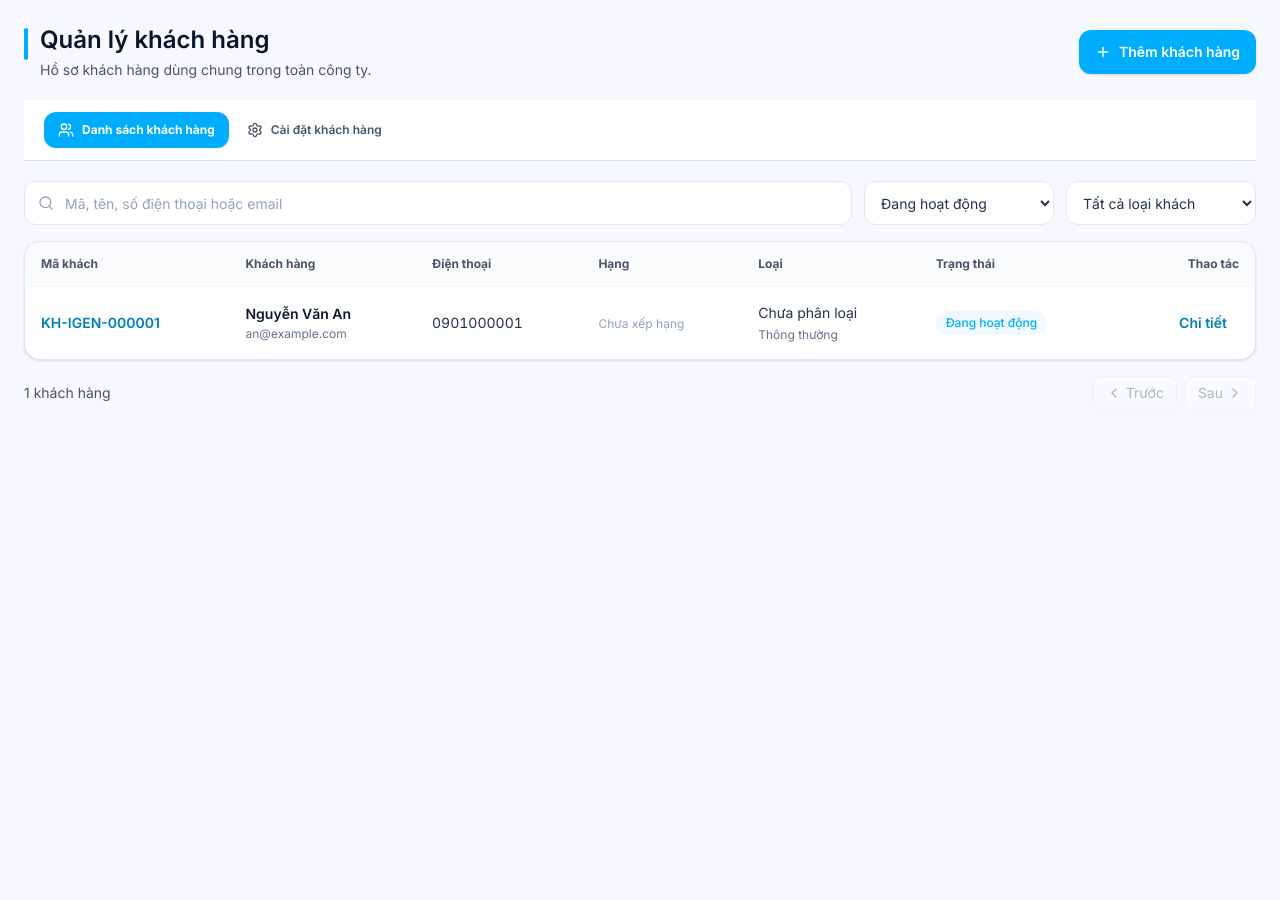
Test case: CustomerWorkspace › shows POS point redemption policy and reads the retail receivable ledger
Expected: the text "Nguyễn Văn An" is shown, top-left (246, 305), bottom-right (351, 322)
Click the button with aria-label "Chi tiết Nguyễn Văn An". click: click(1203, 323)
box: top-left (1167, 307), bottom-right (1239, 339)
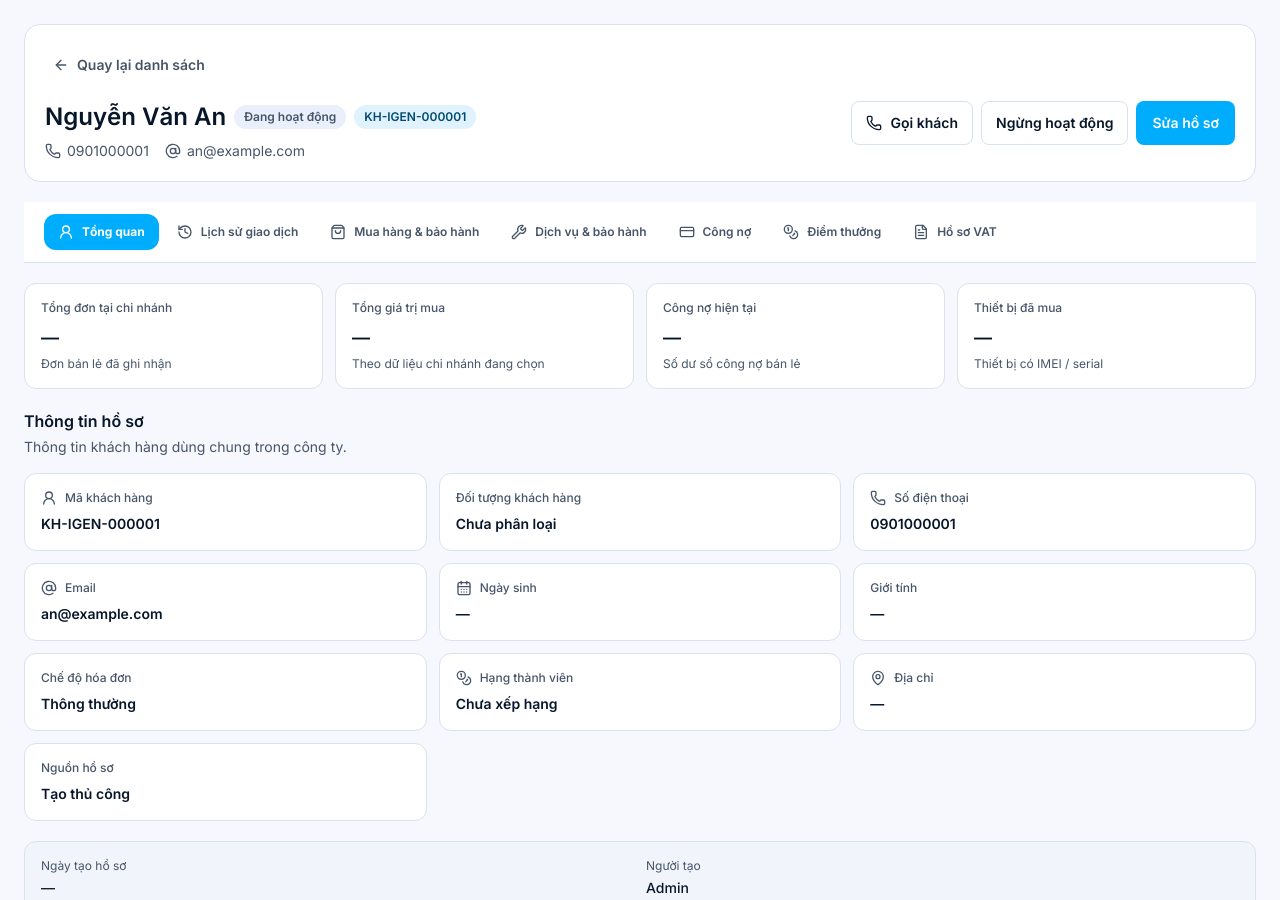
Click the button "Điểm thưởng". click: click(832, 232)
box: top-left (769, 214), bottom-right (895, 250)
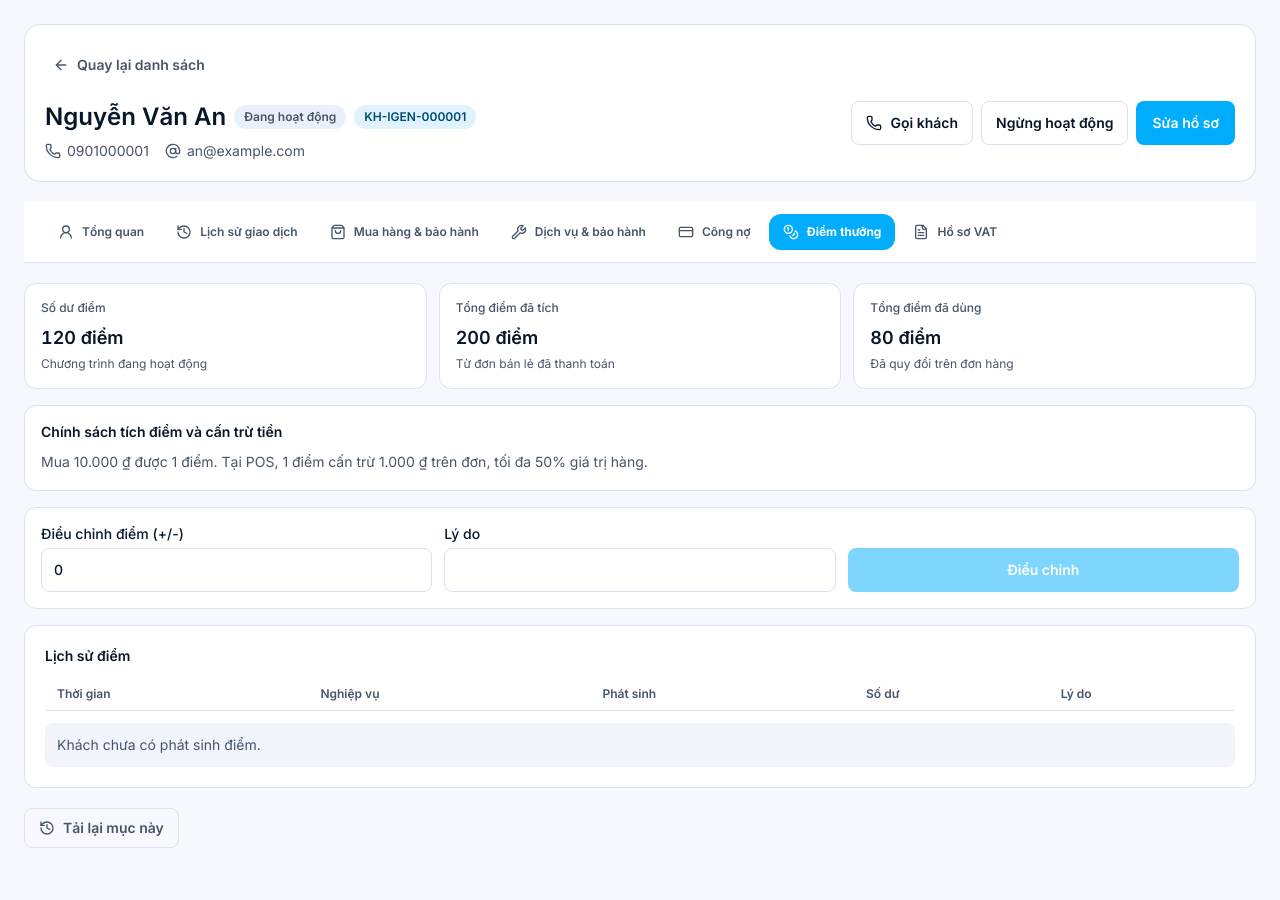
Now the text "120 điểm" is shown, box top-left (41, 327), bottom-right (124, 348)
Now the text "1 điểm cấn trừ 1.000 ₫ trên đơn" is shown, box top-left (41, 453), bottom-right (648, 470)
Click the button "Công nợ". click: click(714, 232)
box: top-left (664, 214), bottom-right (765, 250)
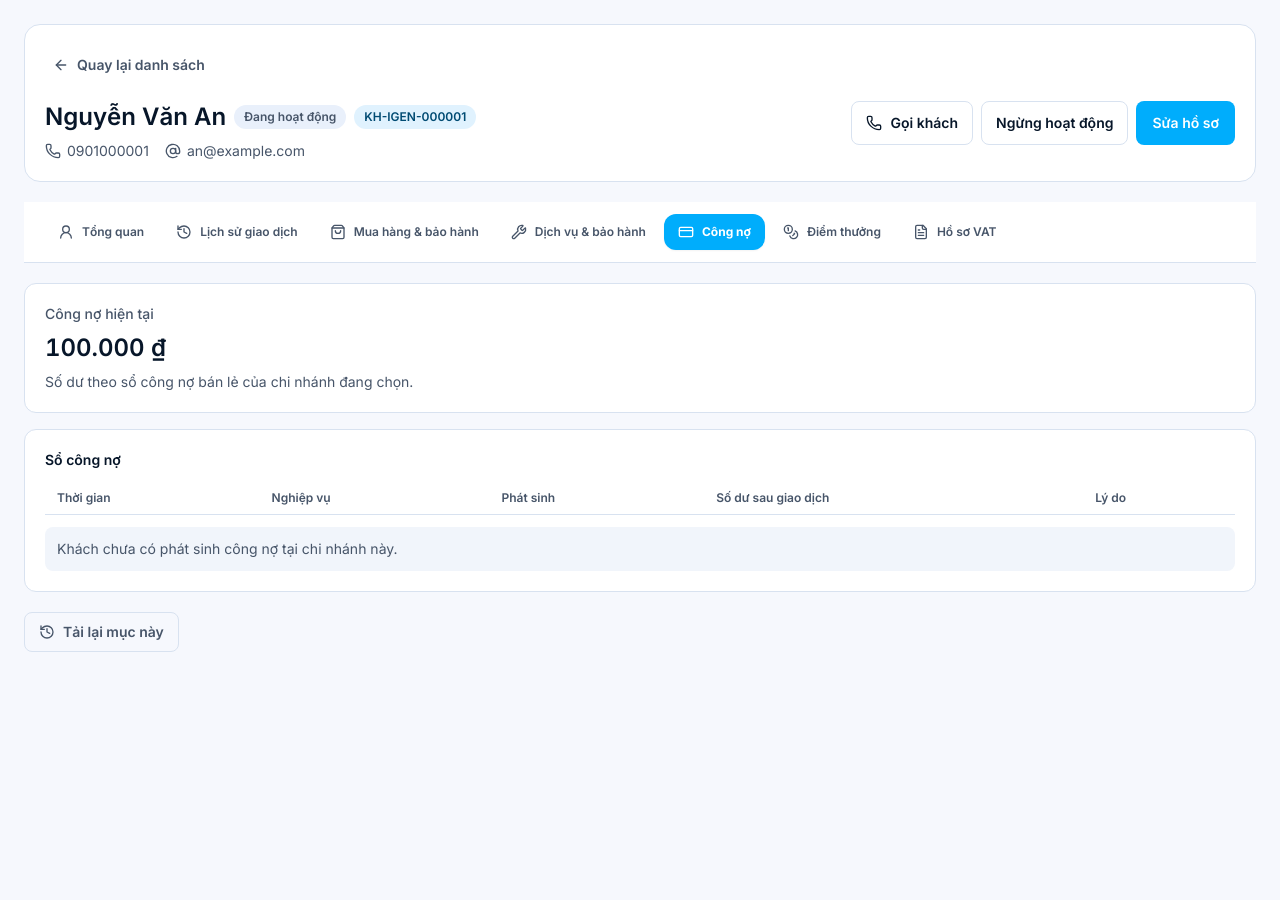
Now the heading "cấn trừ tiền" is gone
